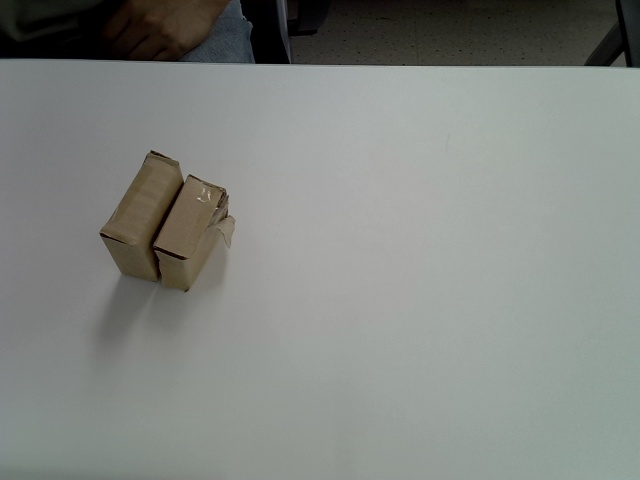defect: (154, 173, 237, 291)
normal: (100, 150, 184, 282)
